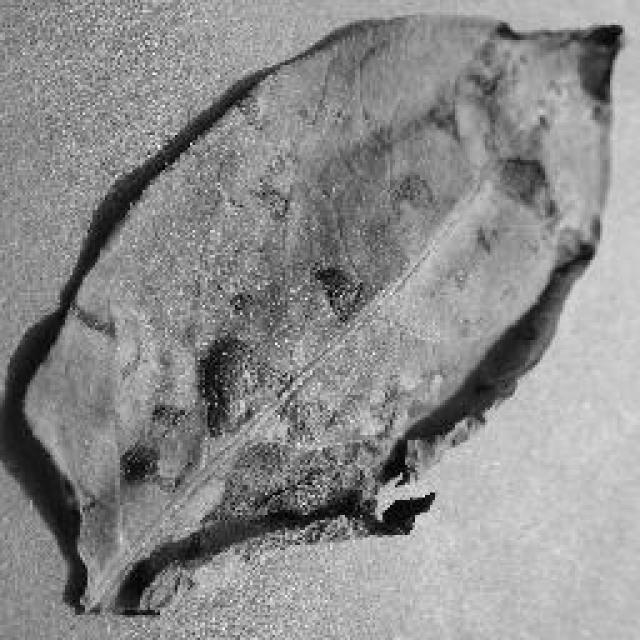Potato: (0, 10, 625, 618)
